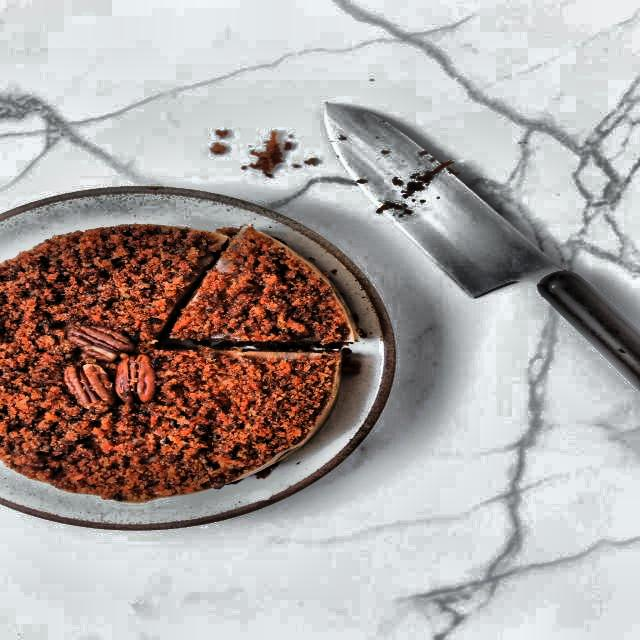knife: (319, 98, 640, 391)
